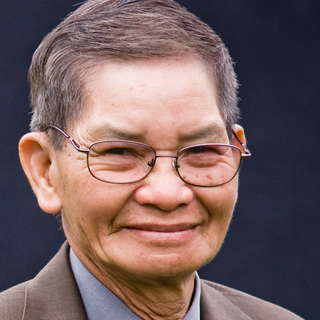eye: (179, 141, 225, 164), (99, 142, 144, 164)
